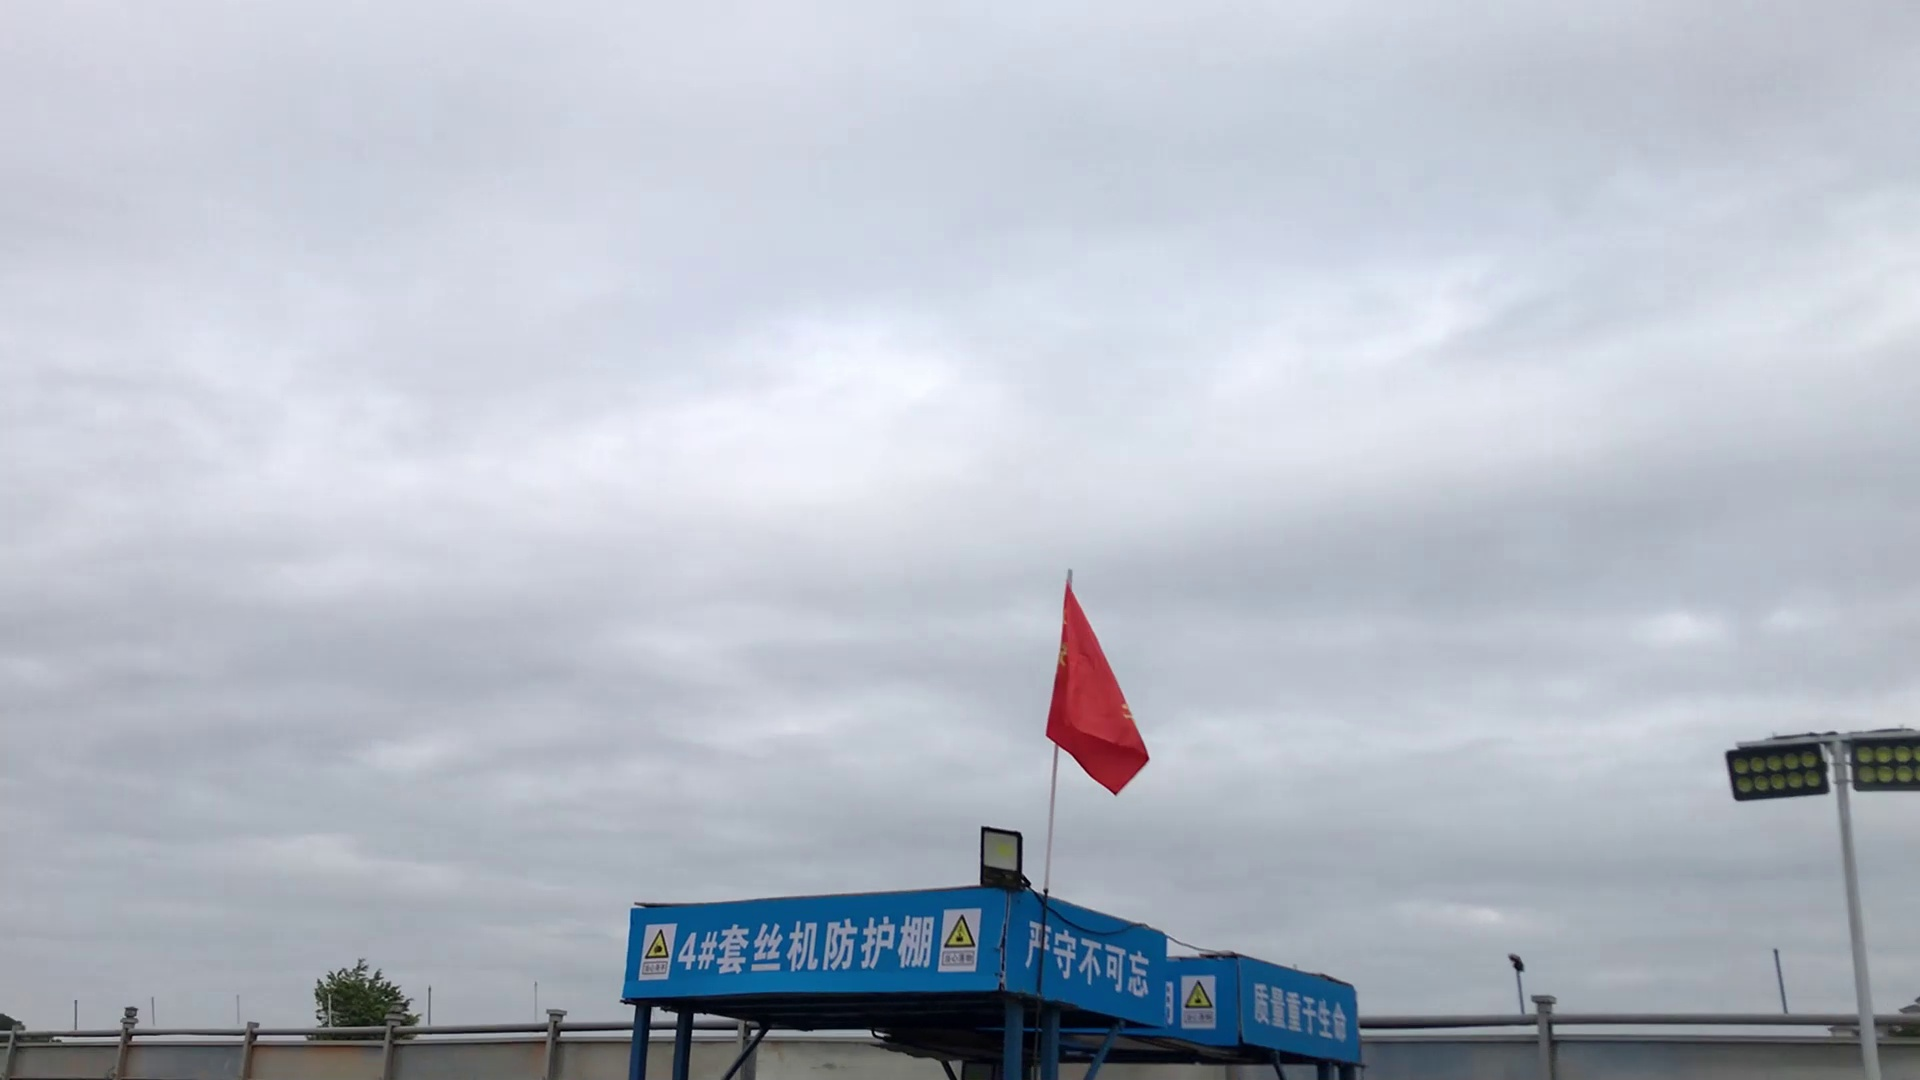slogan: (1011, 903, 1175, 1015), (1236, 964, 1373, 1054)
